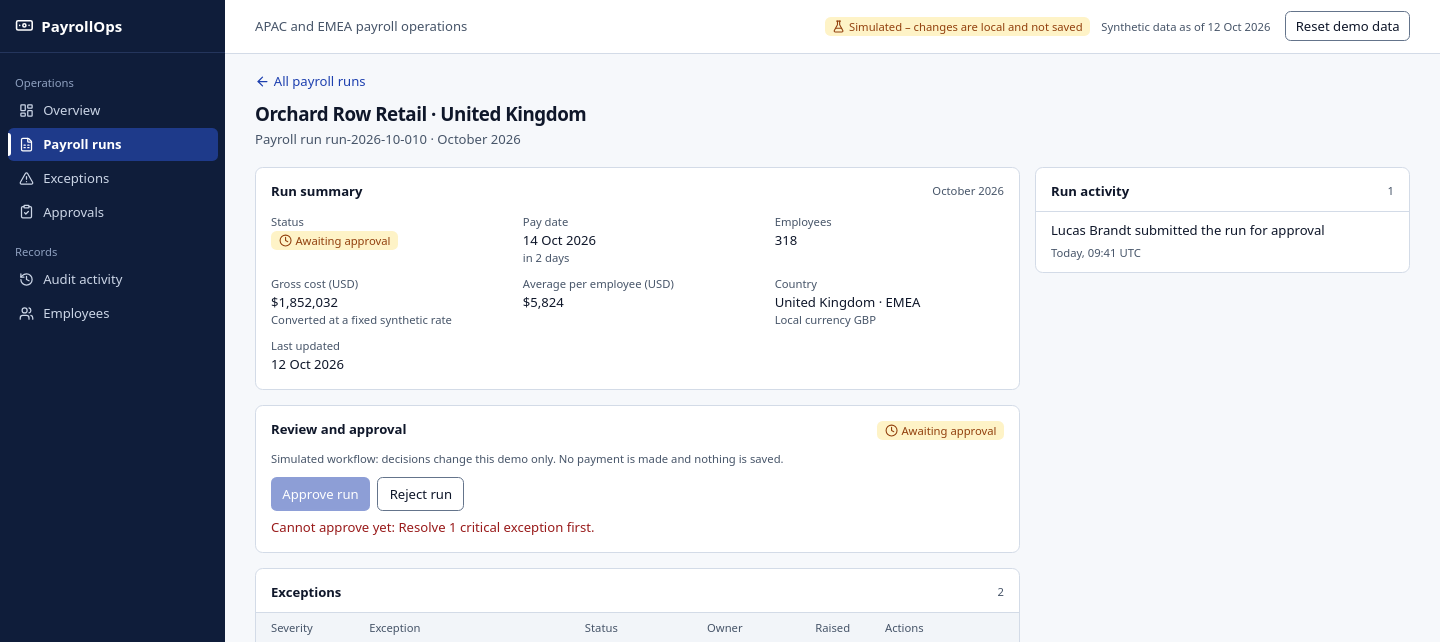
Exceptions page › unblocks approval on the run page when its critical exception is resolved here
Click the link "Exceptions": click(64, 178) [19, 169, 109, 187]
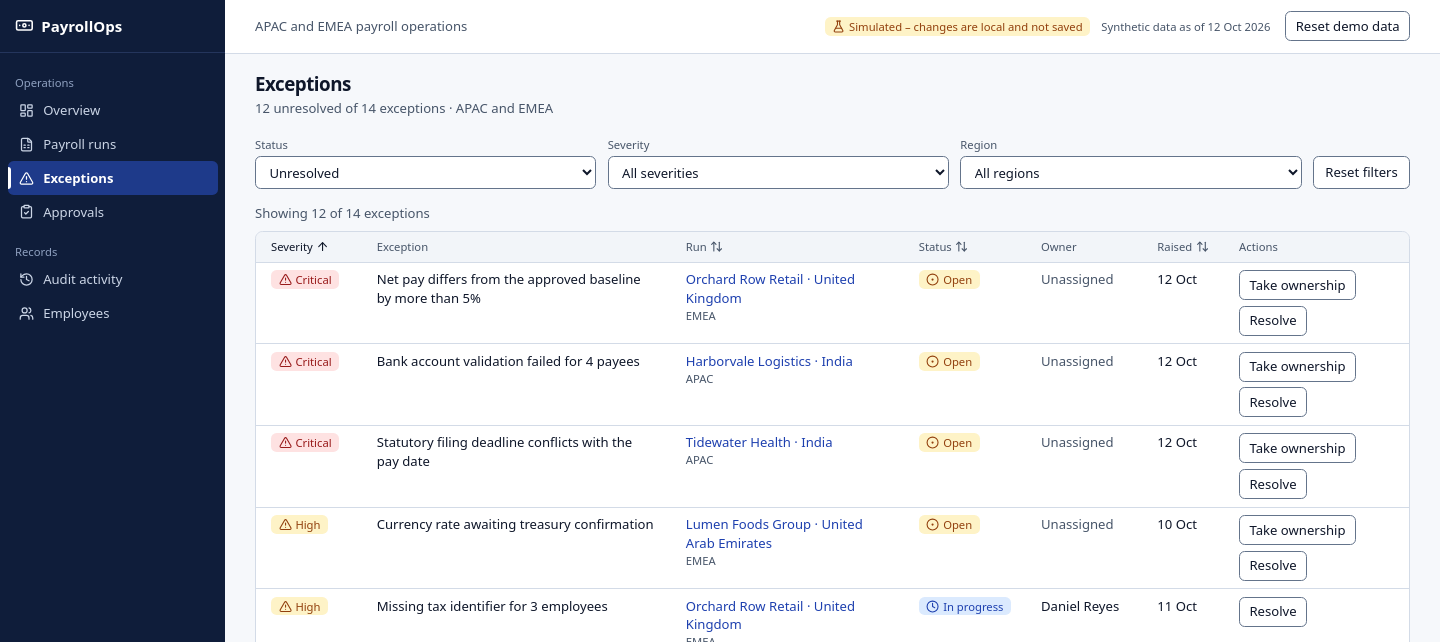
Click the button with aria-label "Resolve: Net pay differs": click(1273, 321) [1239, 306, 1307, 336]
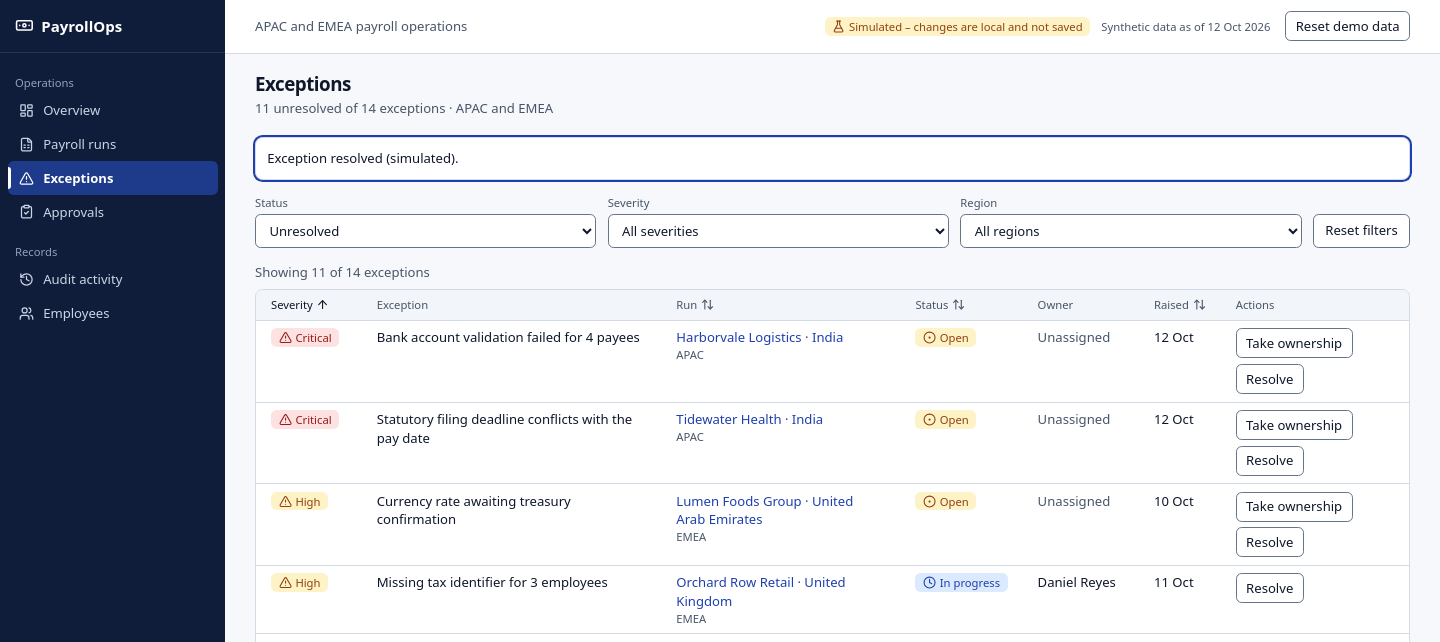
Click the link "Orchard Row Retail · United Kingdom": click(761, 582) [676, 573, 846, 610]
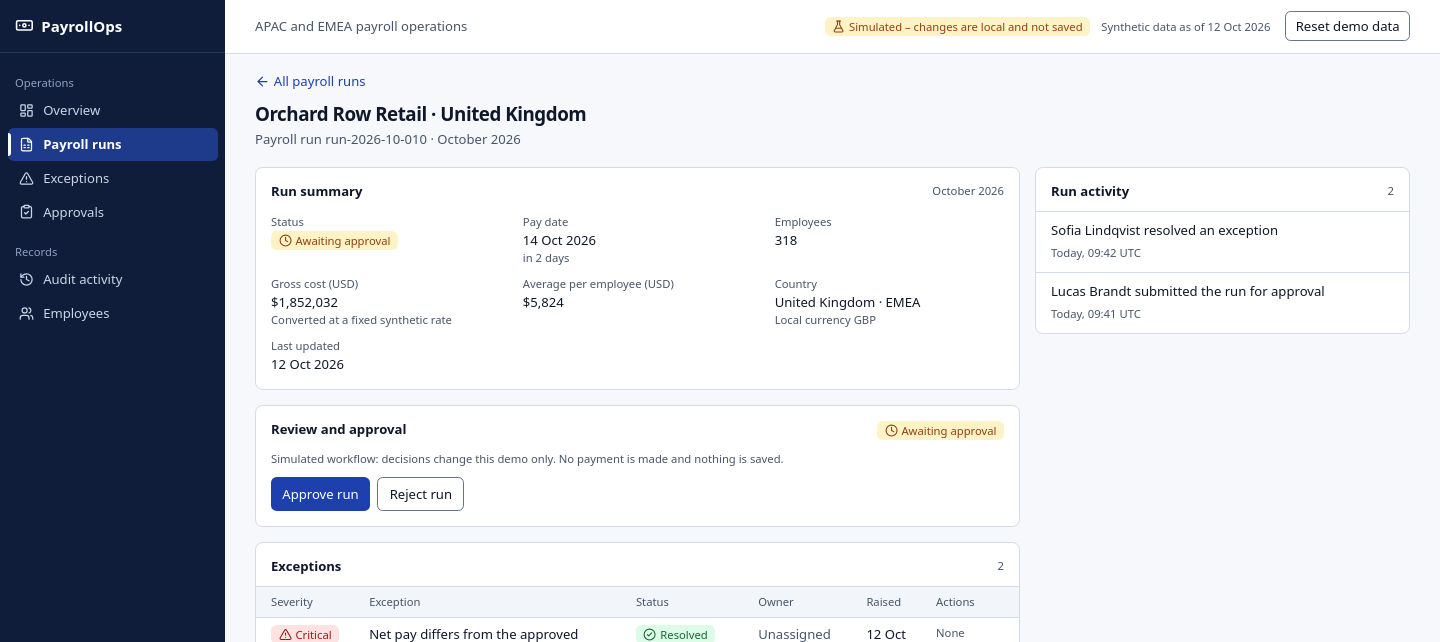
Check: the button "Approve run" is enabled, box [271, 477, 370, 511]
